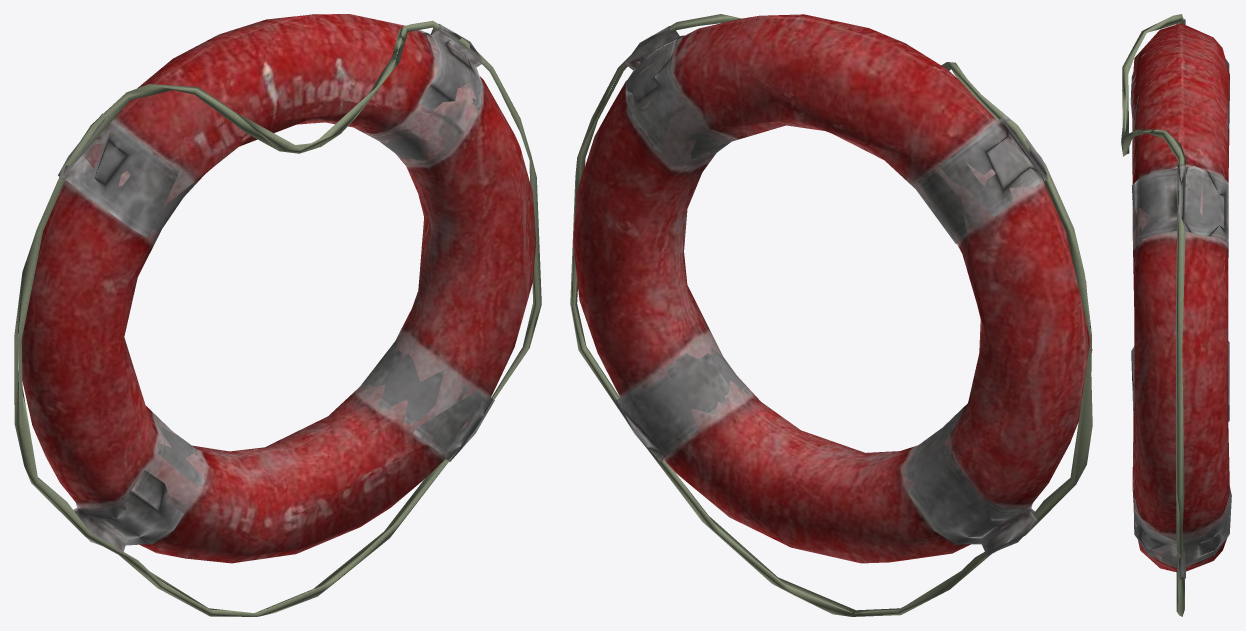
The model's file is lifebuoy.glb.
3 views of the same model, side by side, from view 1: azimuth 30°, elevation 25°; view 2: azimuth 150°, elevation 25°; view 3: azimuth 270°, elevation 25° (orthographic). The views are drawn at different scales.
Parts seen in each view (by area): view 1: lifebuoy; view 2: lifebuoy; view 3: lifebuoy.
Boxes of the visible parts, x1,y1,x2,y2 form: lifebuoy: (14,14,541,616); lifebuoy: (570,14,1092,616); lifebuoy: (1121,14,1231,616).
Size of the model in its own units: 0.7807 by 0.8396 by 0.1521.
1 material, 1 textured.
